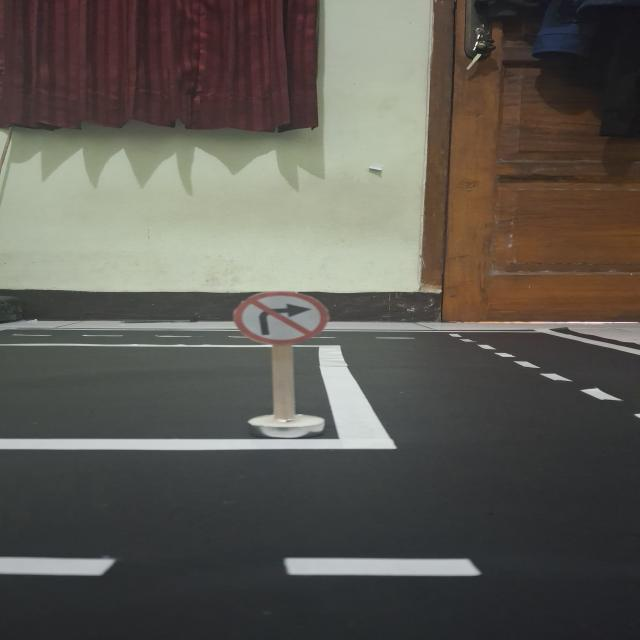Dilarang Belok Kanan: (234, 290, 328, 344)
